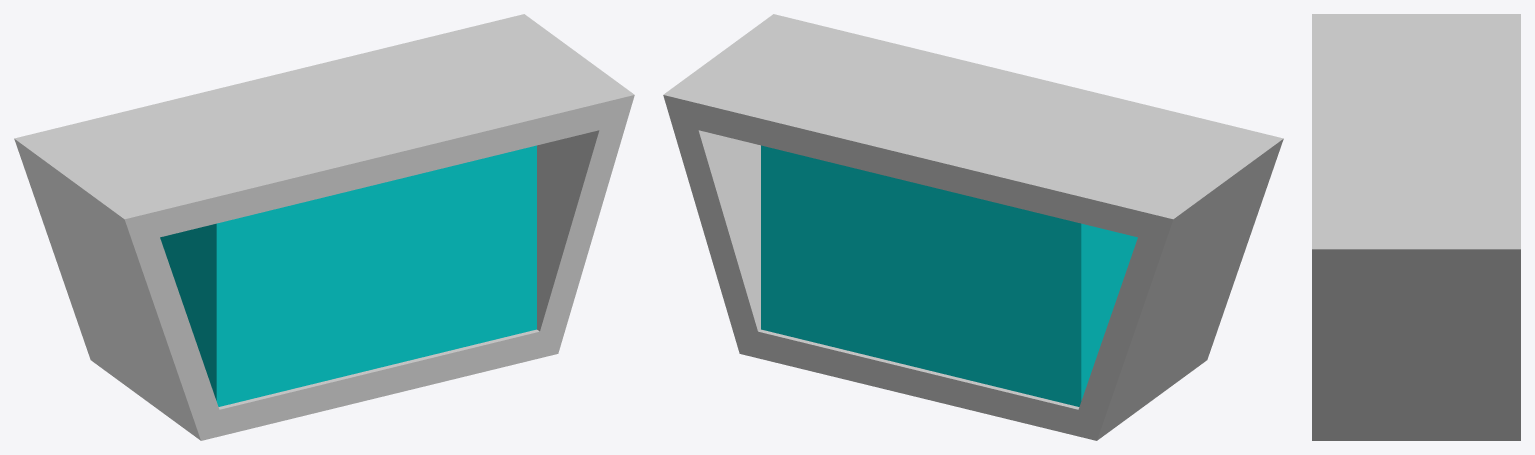
The model's file is standee-02.glb.
The picture shows the model from 3 angles, left to right: view 1: azimuth 30°, elevation 25°; view 2: azimuth 150°, elevation 25°; view 3: azimuth 270°, elevation 25°; orthographic projection. The views are drawn at different scales.
Visible parts, largest first — view 1: 3DGeom-11, 3DGeom-12; view 2: 3DGeom-11, 3DGeom-12; view 3: 3DGeom-11.
Part boxes in pixels (x1,y1,x2,y2): 3DGeom-11: [14, 14, 634, 440]; 3DGeom-12: [160, 145, 536, 406]; 3DGeom-11: [663, 14, 1283, 440]; 3DGeom-12: [761, 145, 1137, 406]; 3DGeom-11: [1312, 14, 1520, 440].
Size of the model in its own units: 2 by 0.9 by 0.75.
